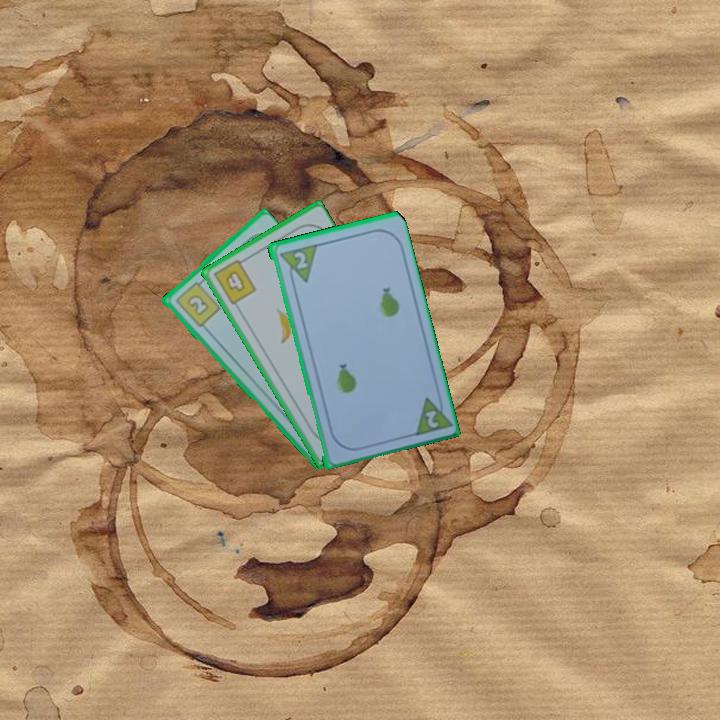2b: (171, 276, 223, 330)
2p: (409, 390, 453, 439), (290, 248, 310, 272)
4b: (210, 254, 259, 308)
